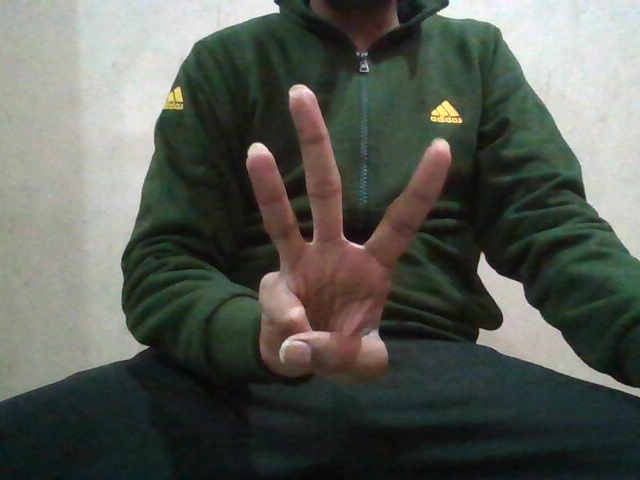W: (215, 78, 454, 393)
